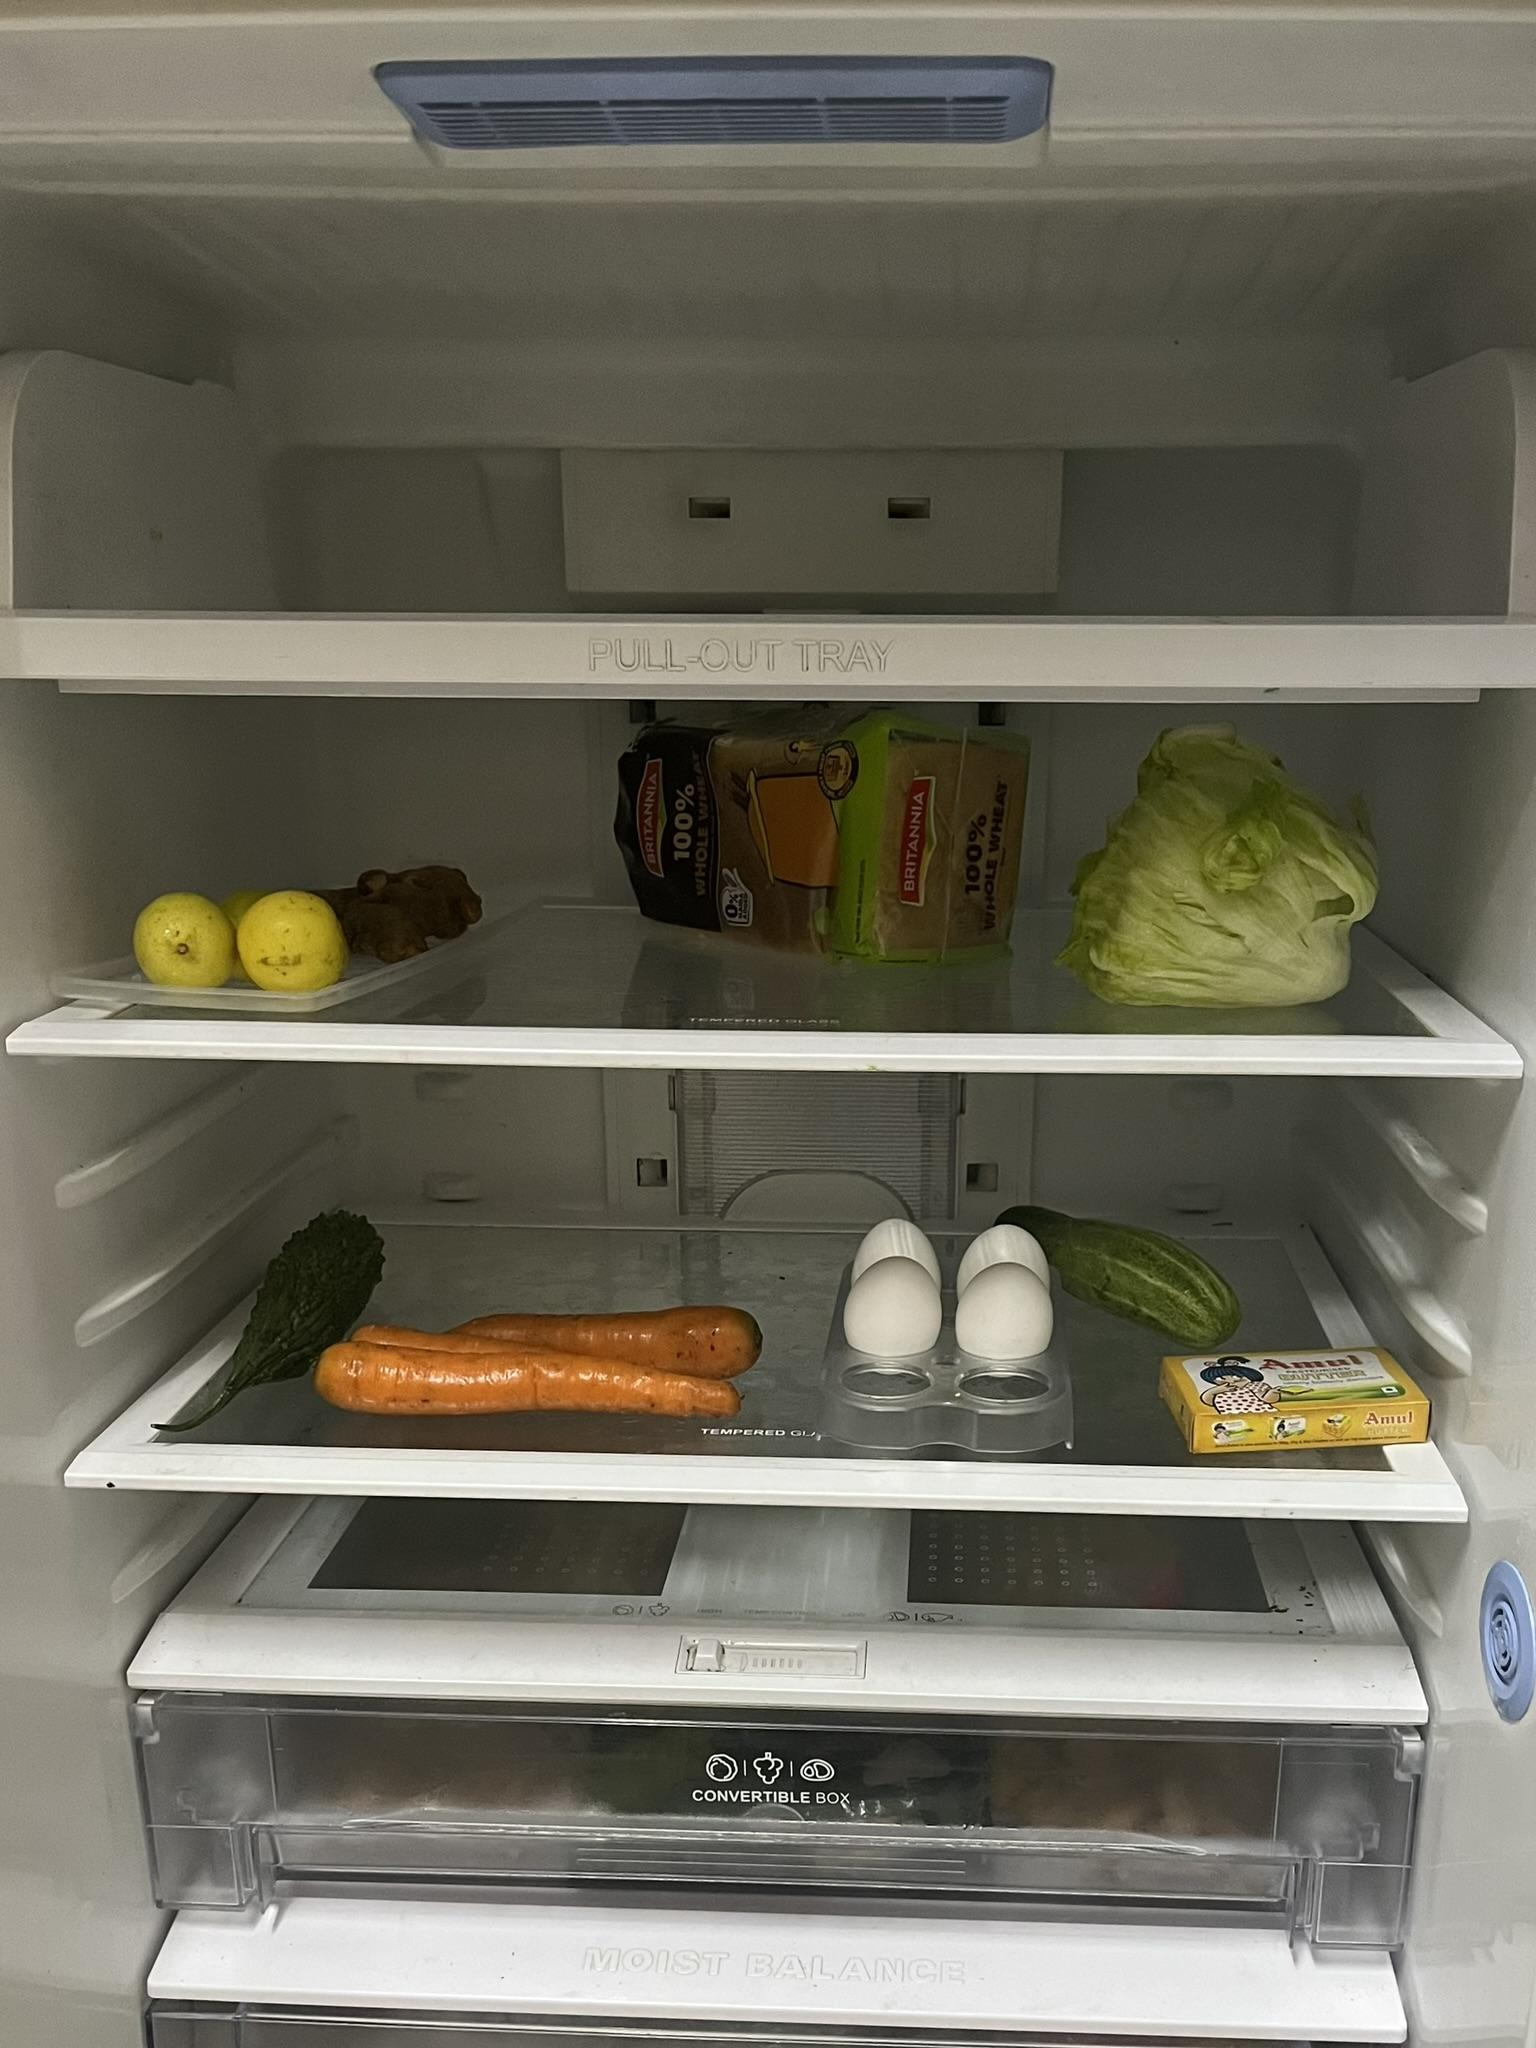bitter gaurd: (165, 1192, 382, 1438)
bread: (603, 714, 1026, 956)
butter: (1160, 1355, 1457, 1442)
carrots: (337, 1305, 762, 1411)
cucumber: (1044, 1205, 1242, 1361)
egg: (852, 1206, 1050, 1380)
ginger: (337, 847, 497, 964)
lemon: (132, 887, 352, 987)
lettuce: (1071, 716, 1381, 1018)
